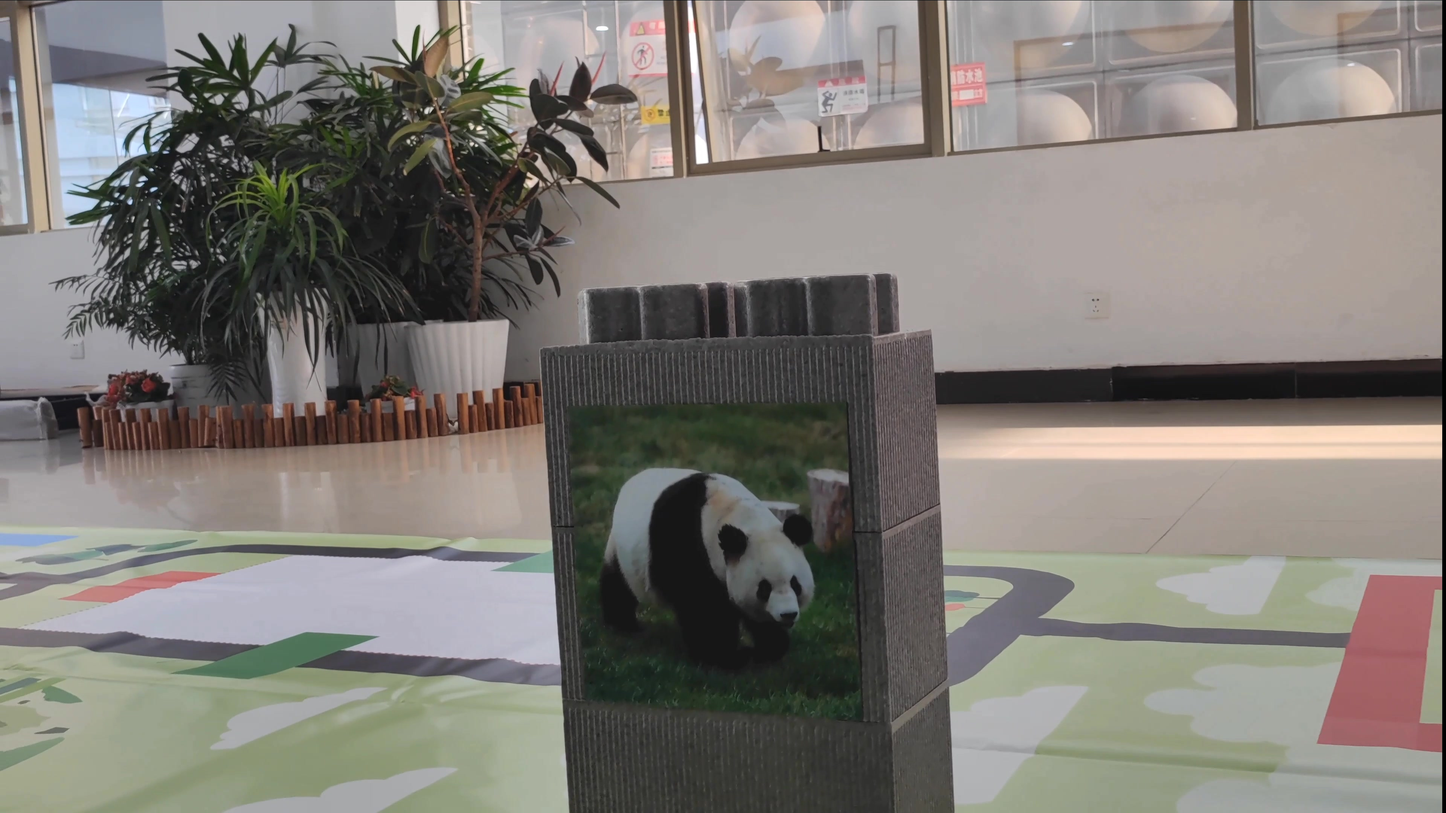panda: (570, 407, 856, 713)
